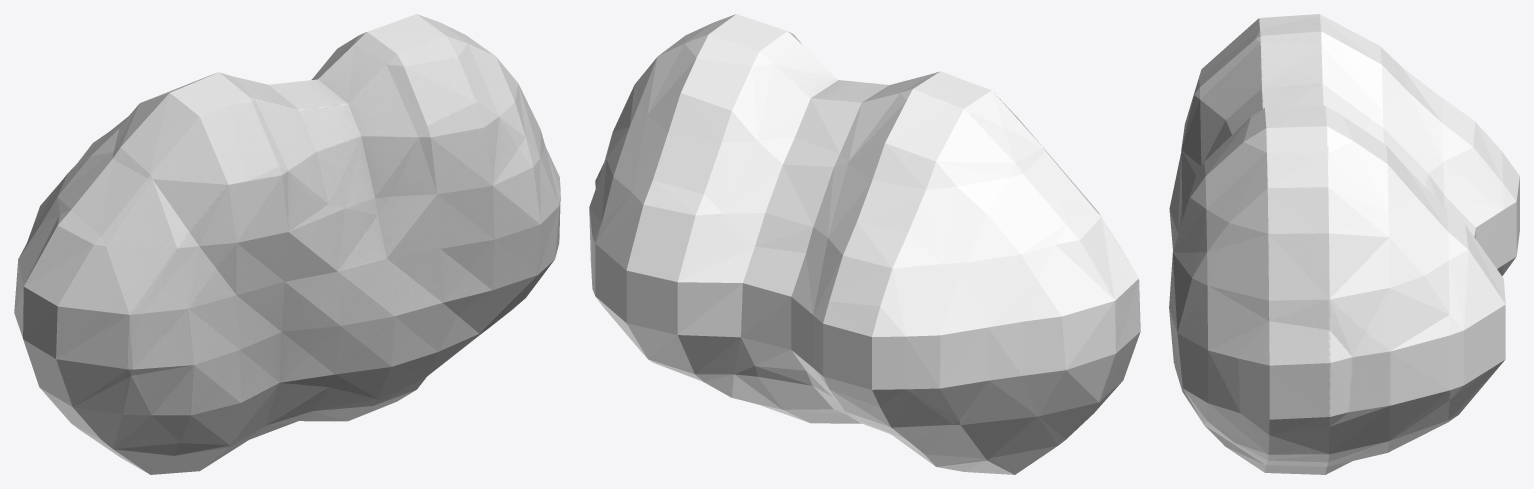
File: cloud.obj
3 views of the same model, side by side, from view 1: azimuth 30°, elevation 25°; view 2: azimuth 150°, elevation 25°; view 3: azimuth 270°, elevation 25° (orthographic). The views are drawn at different scales.
Parts seen in each view (by area): view 1: Mball.000_Mesh.002; view 2: Mball.000_Mesh.002; view 3: Mball.000_Mesh.002.
Boxes of the visible parts, left/top/right/bottom form: Mball.000_Mesh.002: left=14, top=14, right=560, bottom=474; Mball.000_Mesh.002: left=589, top=14, right=1140, bottom=474; Mball.000_Mesh.002: left=1169, top=14, right=1519, bottom=474.
Size of the model in its own units: 15.46 by 10.79 by 8.69.
Materials: 1 (1 with a texture image).
